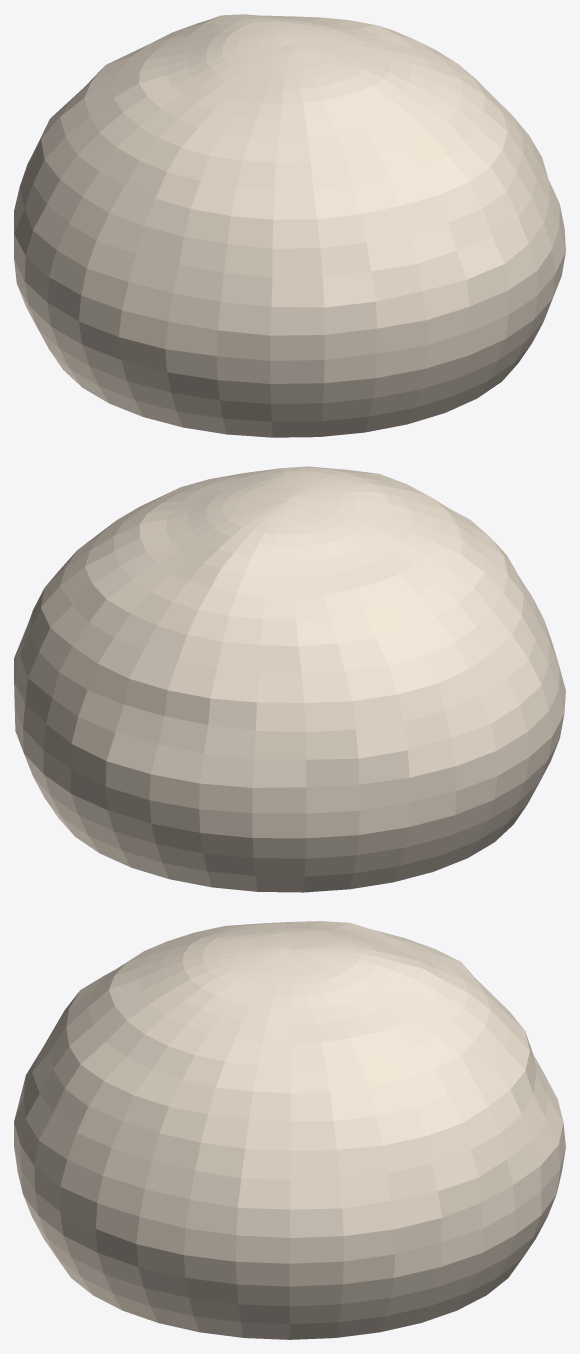
Rendered from Dough Lump 1.fbx.
3 views of the same model, one above another, from view 1: azimuth 30°, elevation 25°; view 2: azimuth 150°, elevation 25°; view 3: azimuth 270°, elevation 25° (orthographic).
Visible parts, largest first — view 1: Sphere; view 2: Sphere; view 3: Sphere.
Part boxes in pixels (left/top/right/bottom): Sphere: left=14, top=14, right=565, bottom=437; Sphere: left=14, top=466, right=565, bottom=892; Sphere: left=14, top=921, right=565, bottom=1339.
Bounding box in the file's own units: 194 × 113 × 194.
